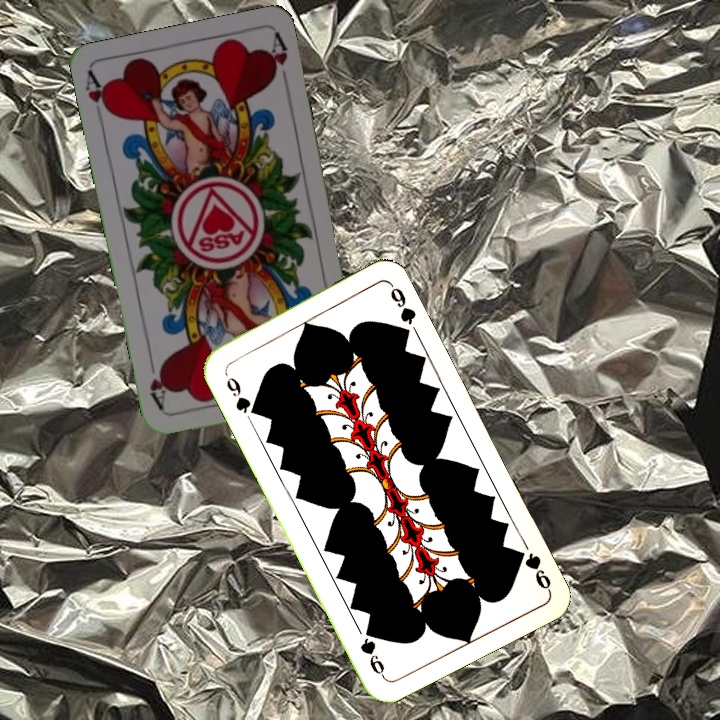G9: (510, 545, 554, 594), (219, 367, 260, 418)
HA: (81, 68, 114, 118)
